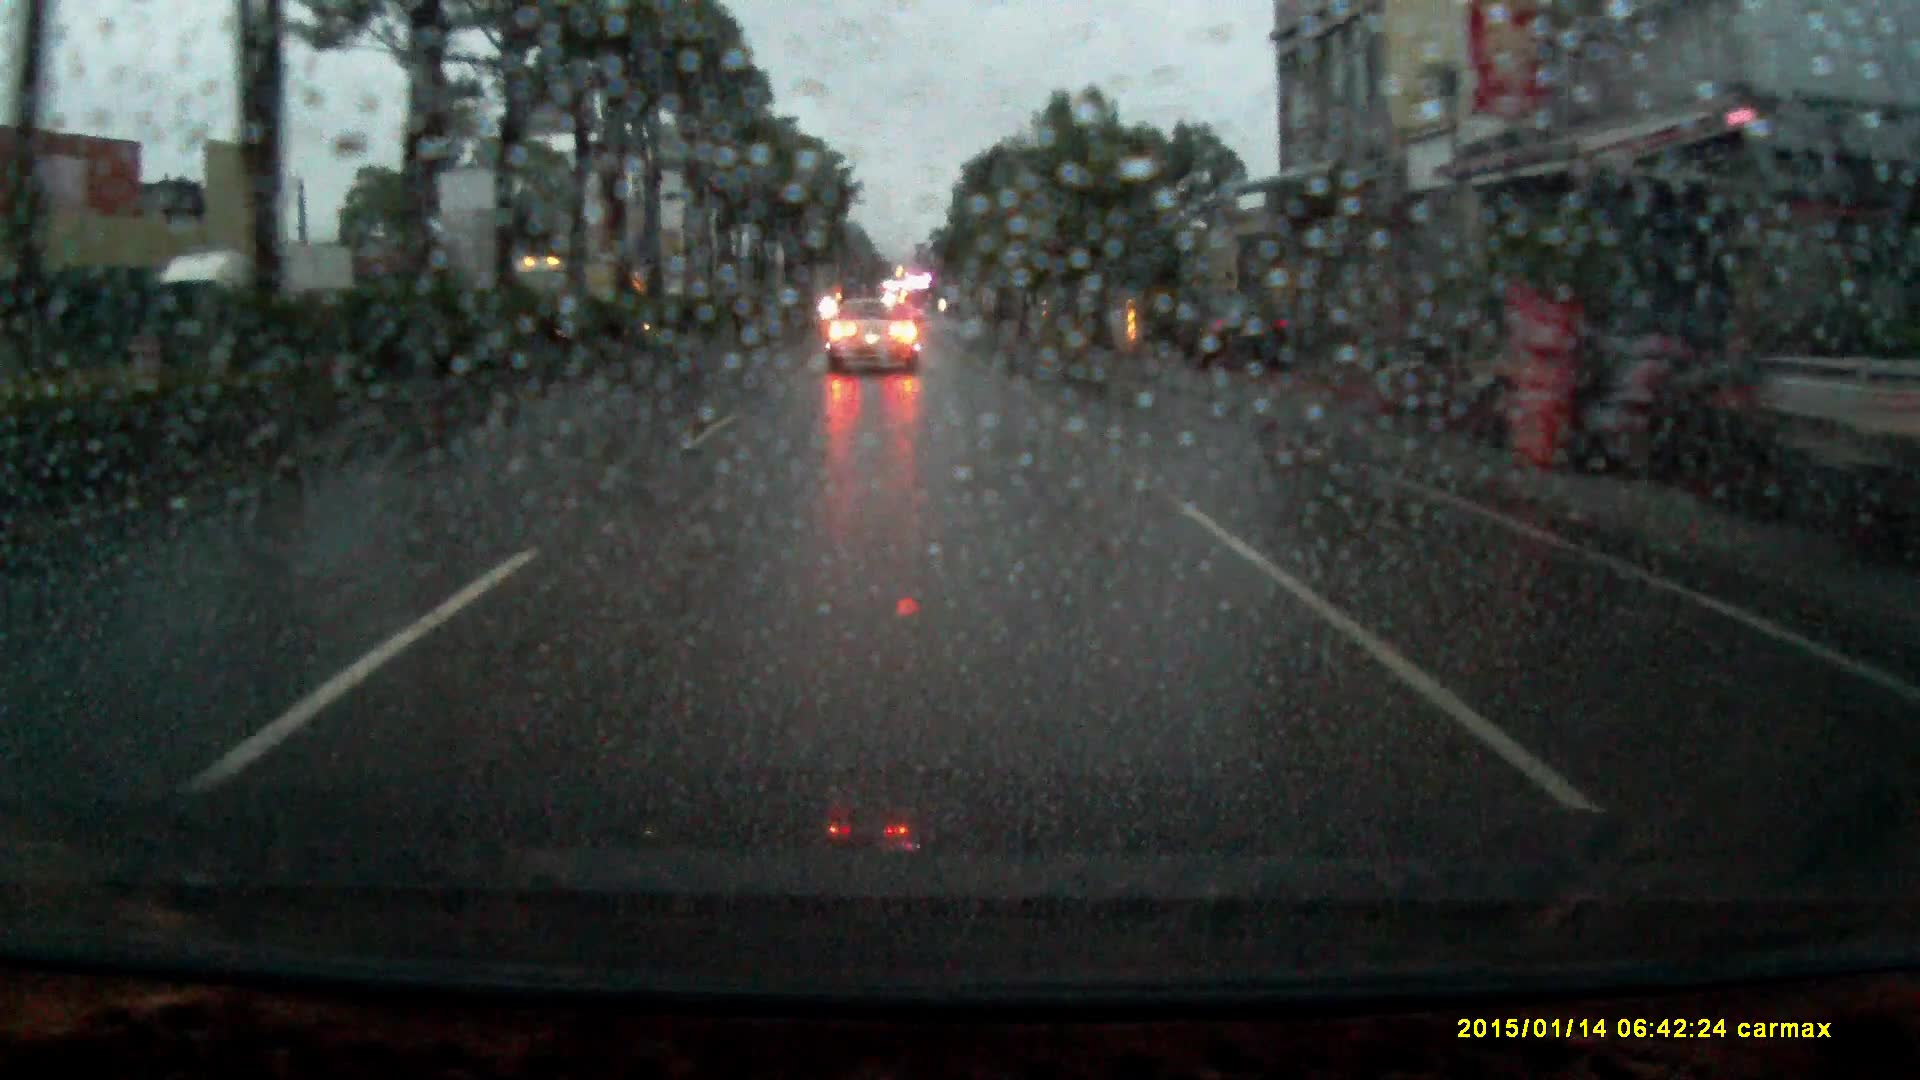vehicle: (152, 243, 359, 377), (1178, 305, 1290, 378), (825, 305, 924, 384), (498, 260, 622, 315)
